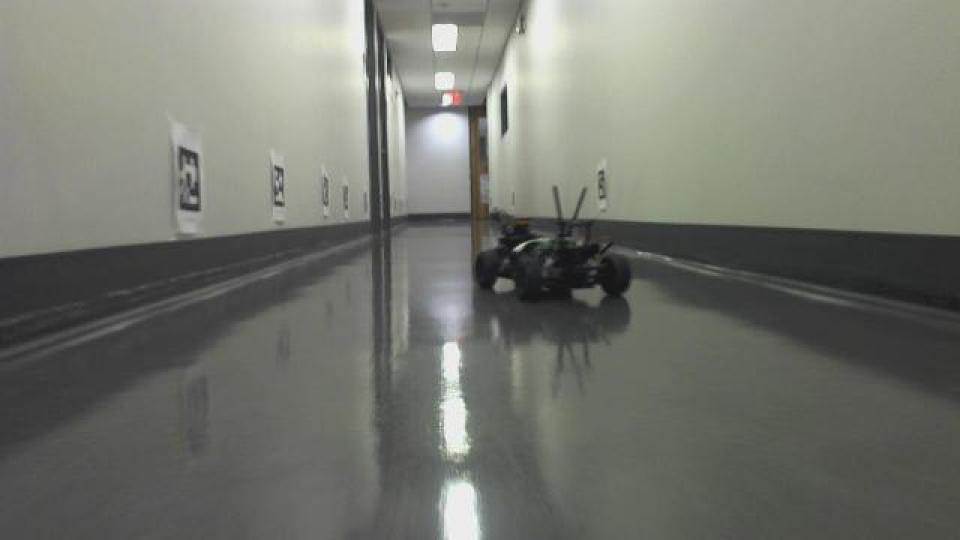car: (469, 182, 633, 304)
